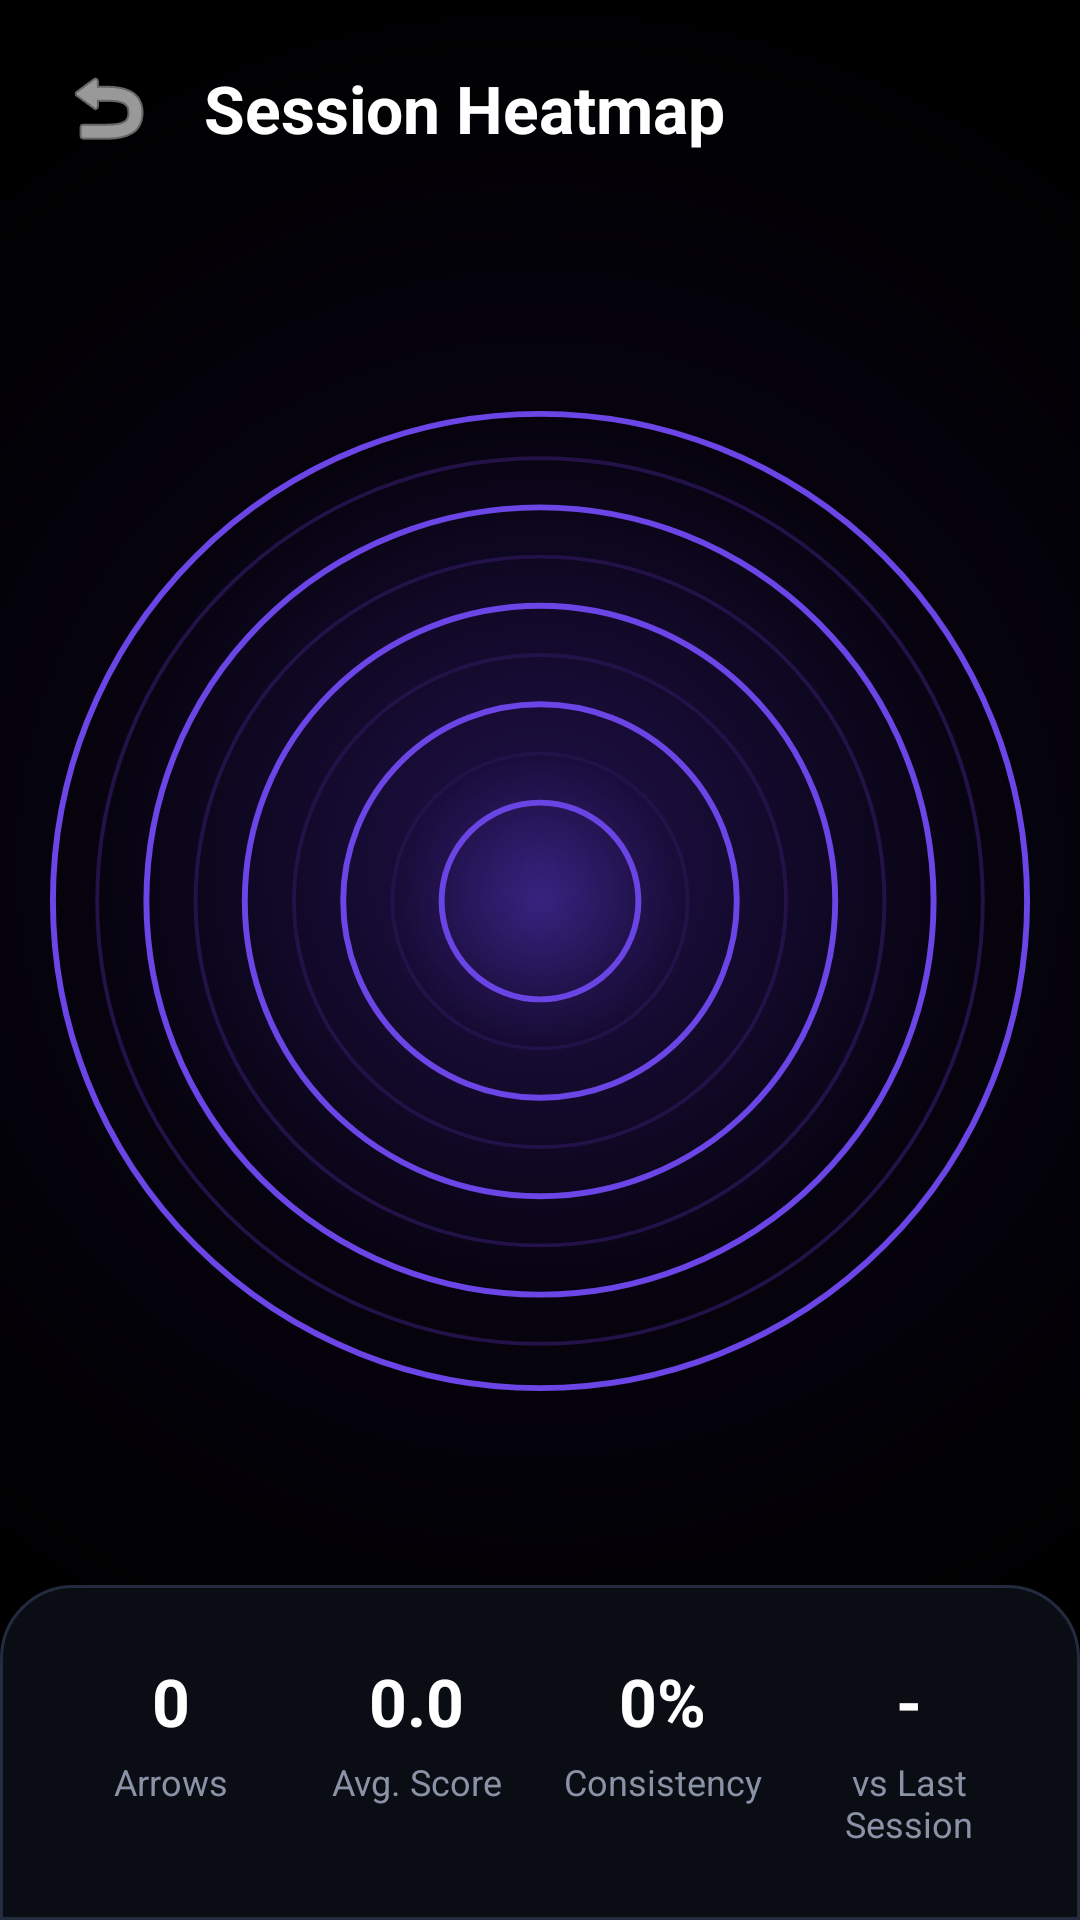

Where to tap for icons on this 1080x1920 app screen, as (x=x, y=y):
revert: (x=109, y=108)
